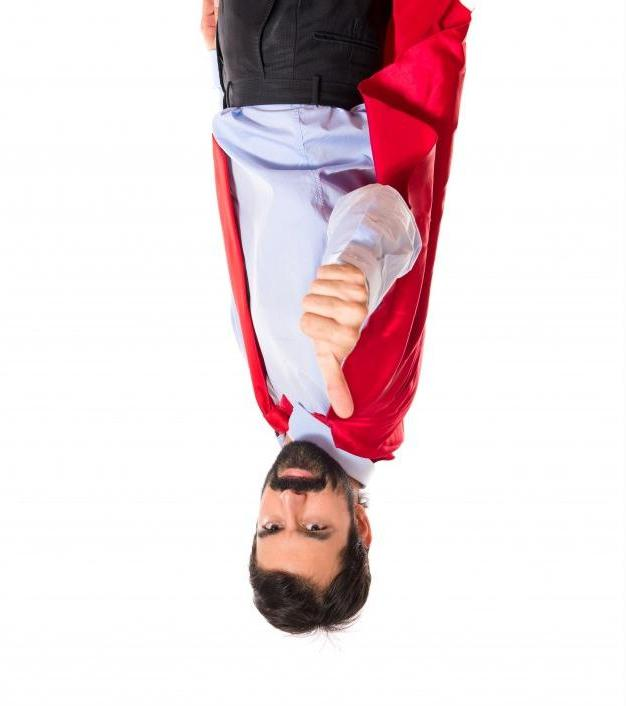thumbsdown: (300, 264, 369, 418)
